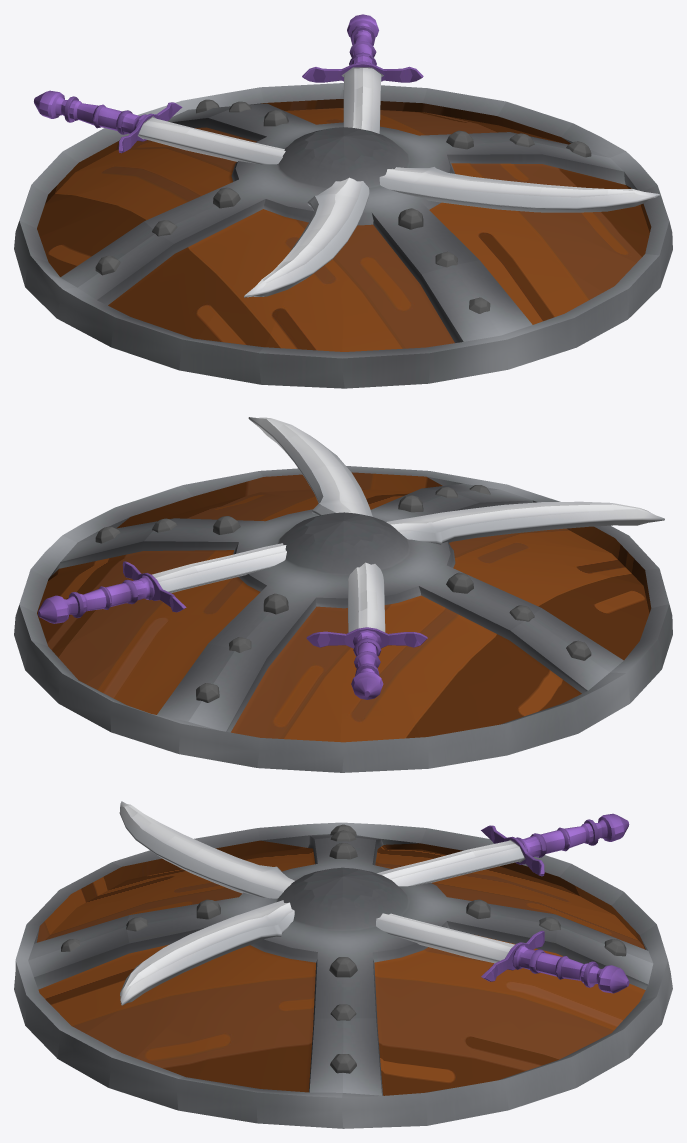
The model's file is shield.fbx.
3 renders of one model, top to bottom at view 1: azimuth 30°, elevation 25°; view 2: azimuth 150°, elevation 25°; view 3: azimuth 270°, elevation 25°, orthographic.
Visible parts, largest first — view 1: shield1; view 2: shield1; view 3: shield1.
Boxes of the visible parts, bbox=[...] form: shield1: bbox=[14, 14, 672, 388]; shield1: bbox=[14, 417, 672, 772]; shield1: bbox=[14, 801, 672, 1128].
Size of the model in its own units: 21 by 4 by 20.9.
3 materials, 2 textured.
